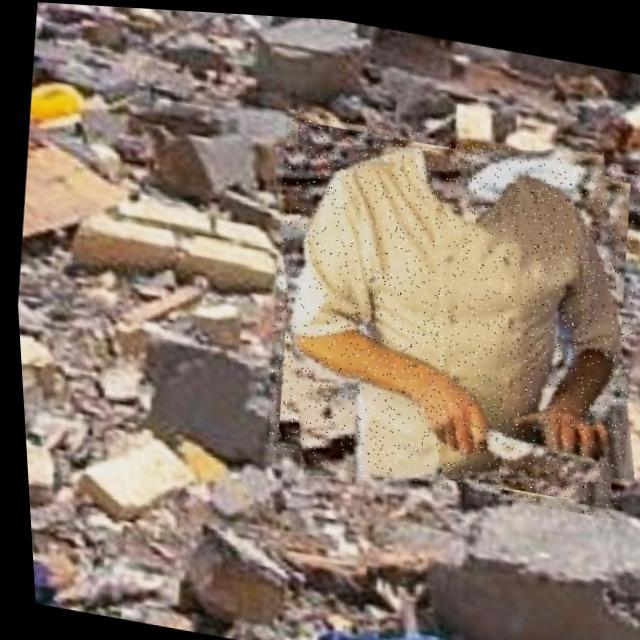Person in Rubble: (243, 101, 640, 515)
